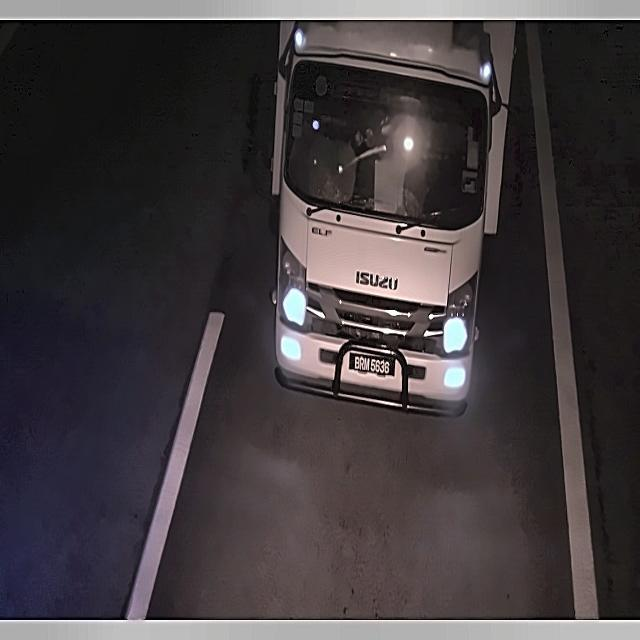car: (344, 344, 400, 384)
